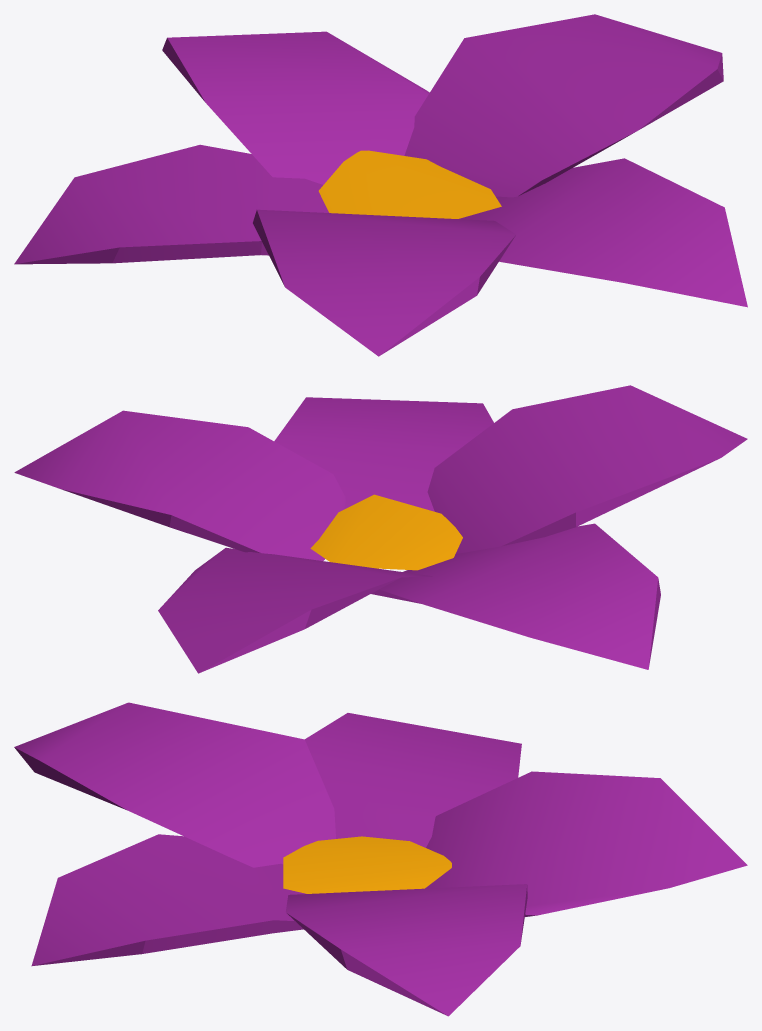
File: Flower_02.fbx
3 renders of one model, top to bottom at view 1: azimuth 30°, elevation 25°; view 2: azimuth 150°, elevation 25°; view 3: azimuth 270°, elevation 25°, orthographic. The views are drawn at different scales.
Parts seen in each view (by area): view 1: Flower_02; view 2: Flower_02; view 3: Flower_02.
Part boxes in pixels (box(x1,y1,x2,y2)): Flower_02: box(14, 14, 747, 356); Flower_02: box(14, 385, 747, 673); Flower_02: box(14, 702, 747, 1016).
Bounding box in the file's own units: 29.2 × 4.4 × 28.25.
